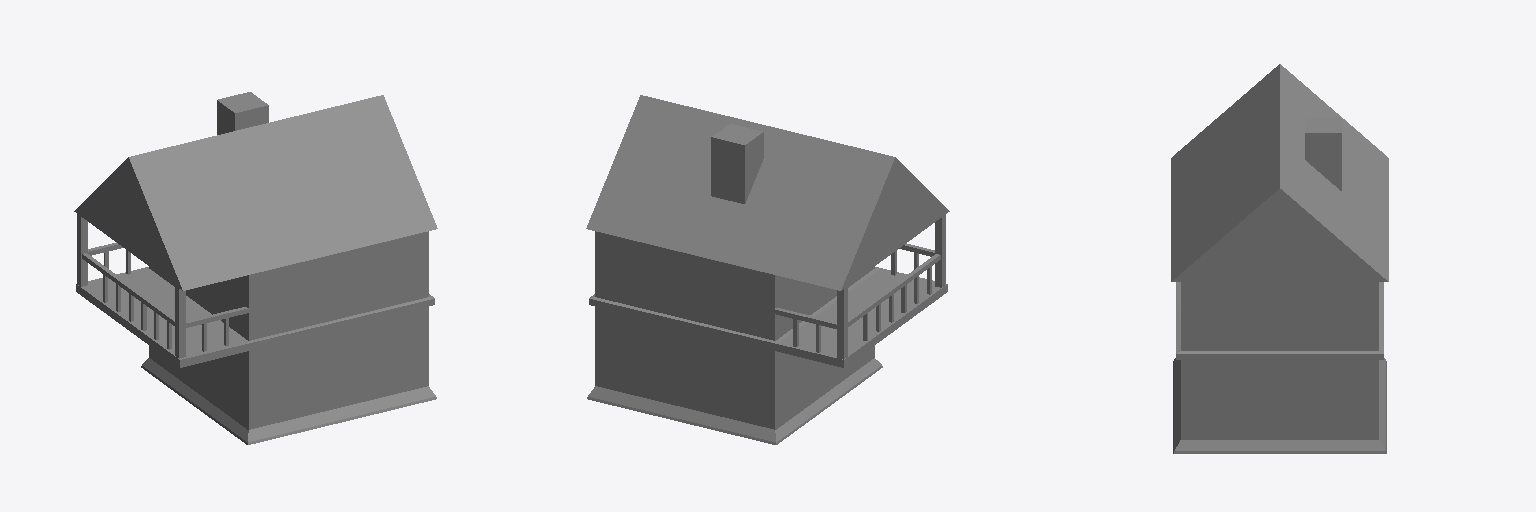
The model's file is Hous_8_Cut.obj.
3 views of the same model, side by side, from view 1: azimuth 30°, elevation 25°; view 2: azimuth 150°, elevation 25°; view 3: azimuth 270°, elevation 25° (orthographic).
Visible parts, largest first — view 1: House8_R, House8_T; view 2: House8_R, House8_T; view 3: House8_R, House8_T.
Boxes of the visible parts, <box> form: House8_R: <box>74,92,437,367</box>; House8_T: <box>141,307,436,444</box>; House8_R: <box>586,95,949,367</box>; House8_T: <box>587,307,882,444</box>; House8_R: <box>1171,64,1388,359</box>; House8_T: <box>1173,358,1386,453</box>.
Bounding box in the file's own units: 8.51 × 8.62 × 6.29.